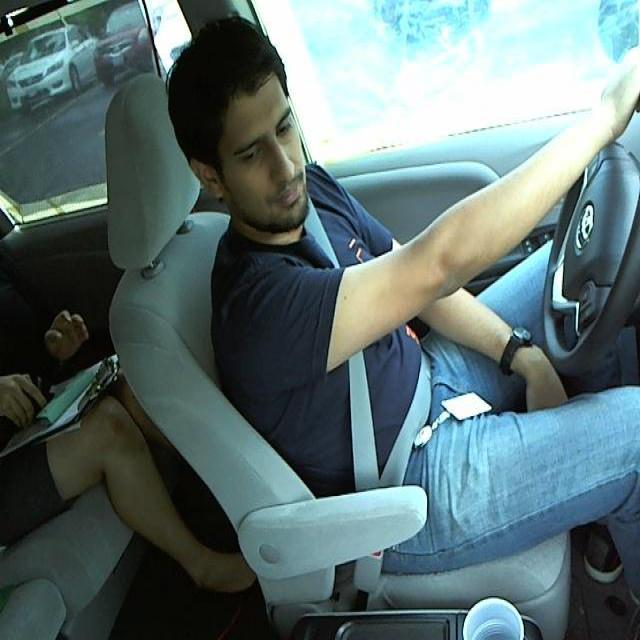seatbelt: (338, 364, 436, 495)
